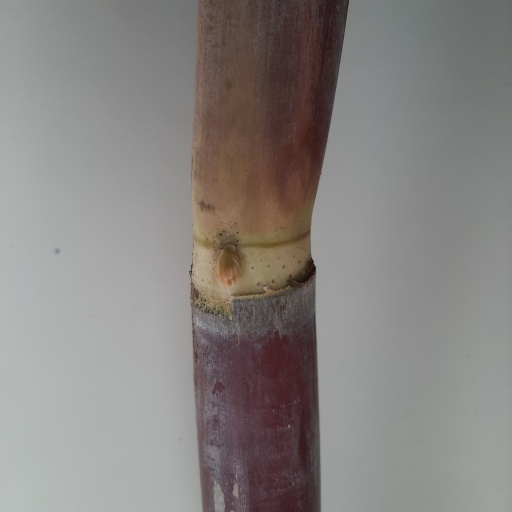Bud: (216, 247, 243, 288)
